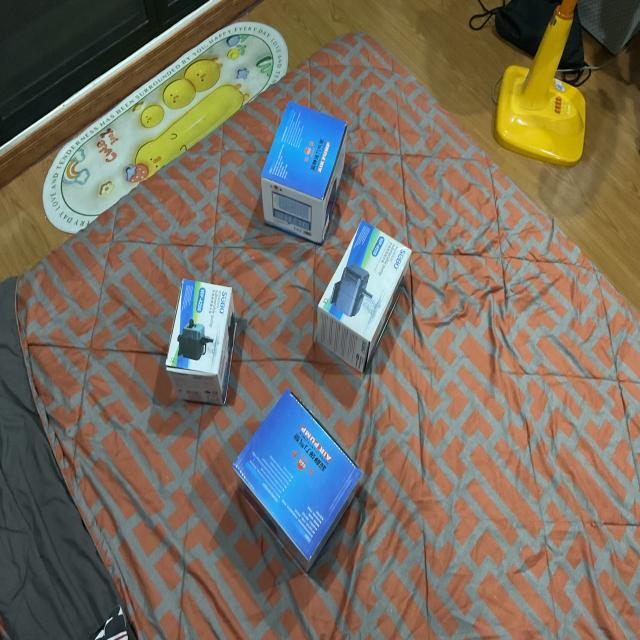SOBO_WP_4200: (307, 212, 425, 385), (164, 266, 246, 414)
YAMANO_LPP_20: (219, 384, 381, 579), (249, 93, 354, 257)
